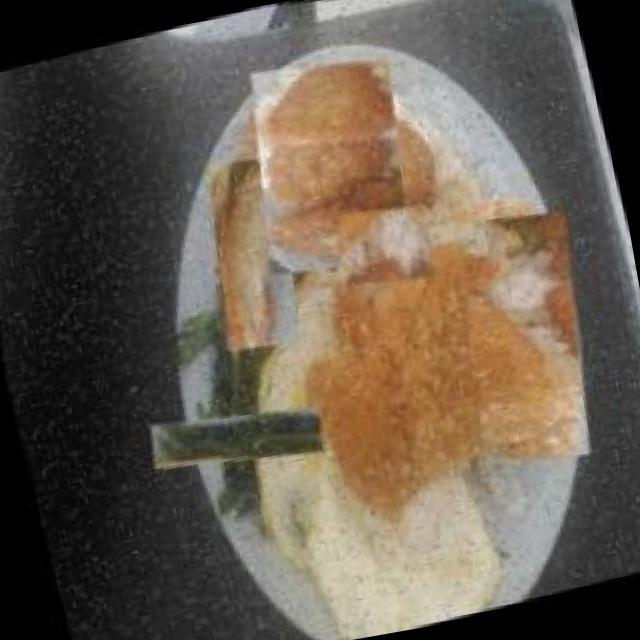fried_chicken: (235, 158, 618, 538)
fried_dumplings: (178, 142, 324, 362)
fried_eggs: (177, 205, 551, 640)
rice: (322, 189, 445, 299)
triangle_hash_brown: (208, 44, 450, 286)
water_spinach: (158, 361, 310, 512)
